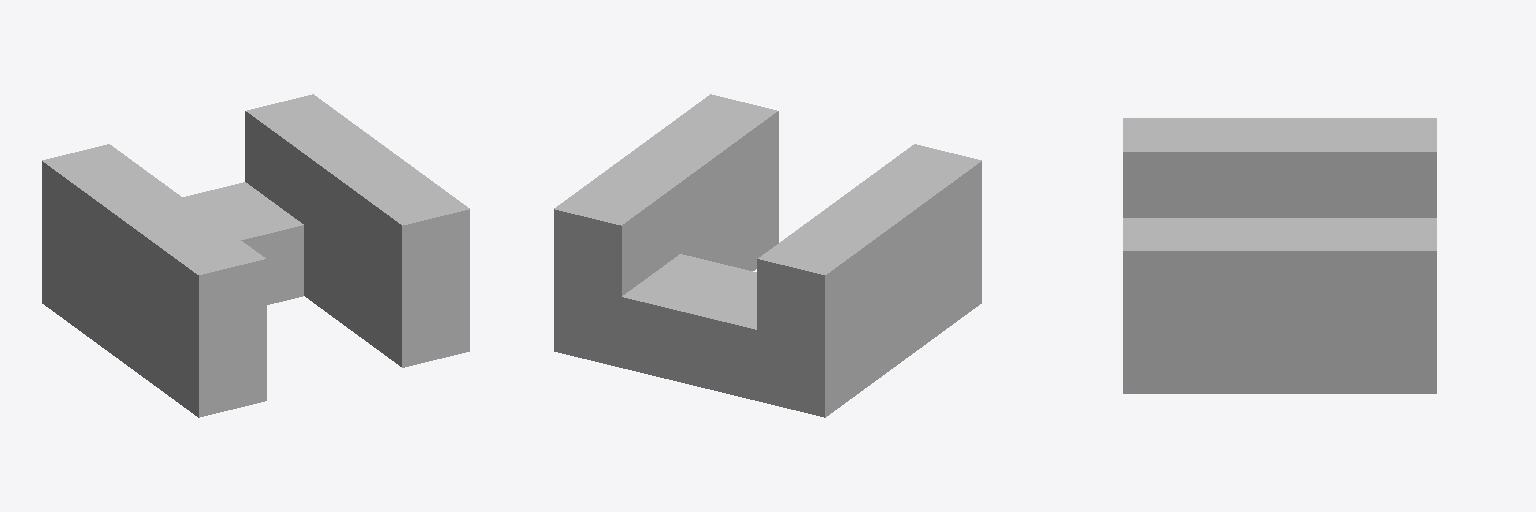
Rendered from conveyor_lift_2.obj.
3 views of the same model, side by side, from view 1: azimuth 30°, elevation 25°; view 2: azimuth 150°, elevation 25°; view 3: azimuth 270°, elevation 25° (orthographic).
Parts seen in each view (by area): view 1: o1, o2, cuboid; view 2: o1, o2, cuboid; view 3: o2, o1.
Boxes of the visible parts, x1,y1,x2,y2 form: o1: [42, 144, 266, 417]; o2: [245, 94, 469, 367]; cuboid: [183, 182, 303, 304]; o1: [757, 144, 981, 417]; o2: [554, 94, 778, 367]; cuboid: [622, 254, 756, 400]; o2: [1123, 218, 1436, 393]; o1: [1123, 118, 1436, 217].
Size of the model in its own units: 1 by 0.5 by 1.